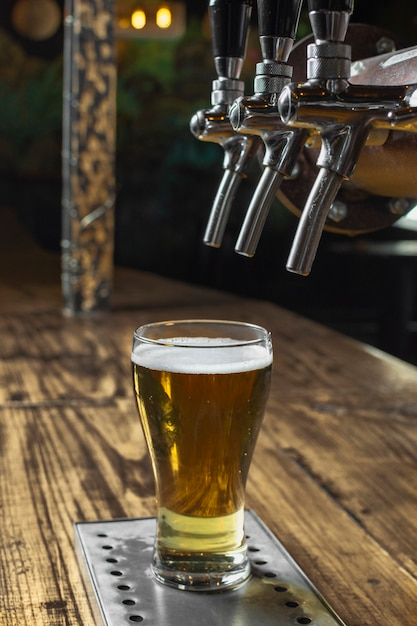alcohol: (127, 318, 278, 600)
